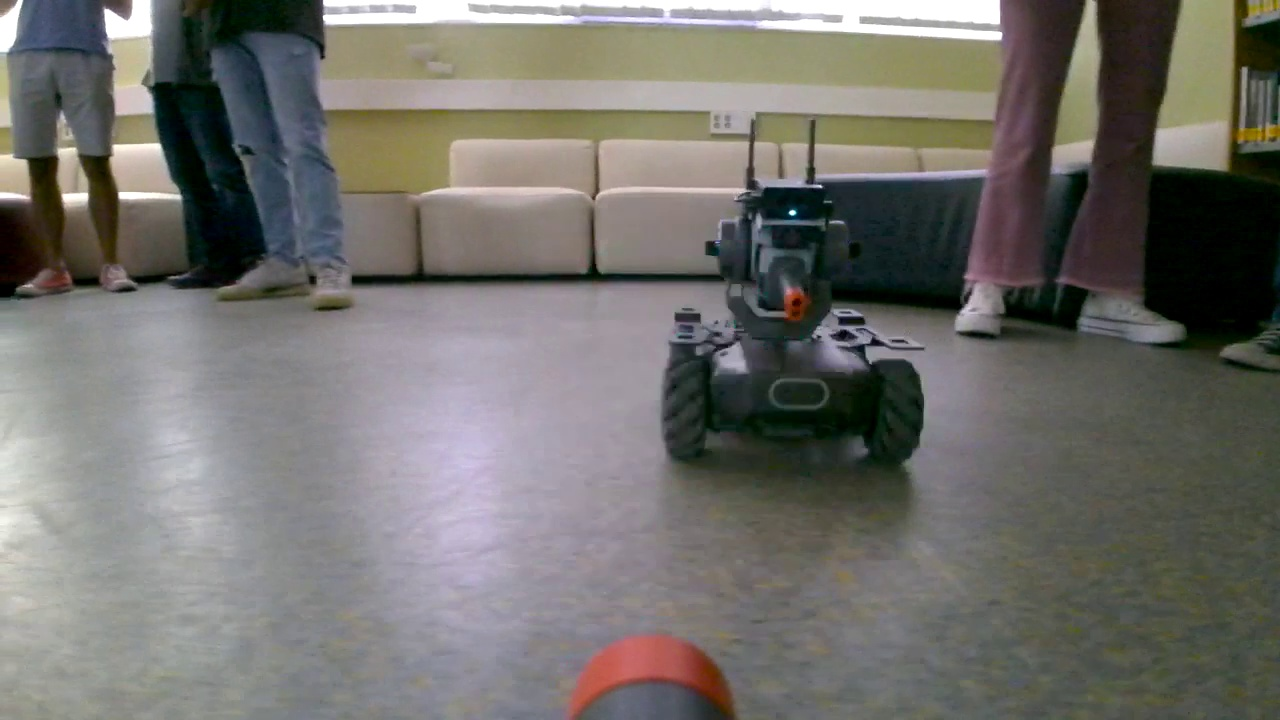robot: (656, 181, 927, 476)
